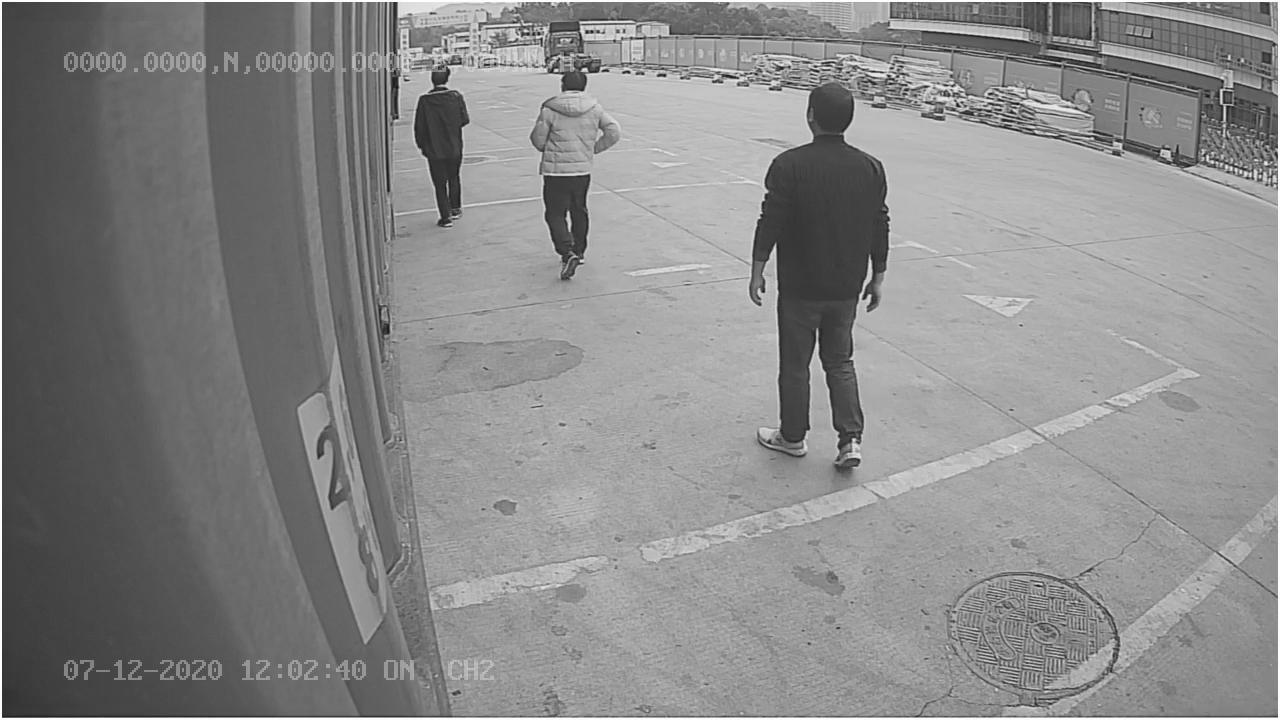person: (750, 84, 892, 473), (528, 67, 621, 286)
